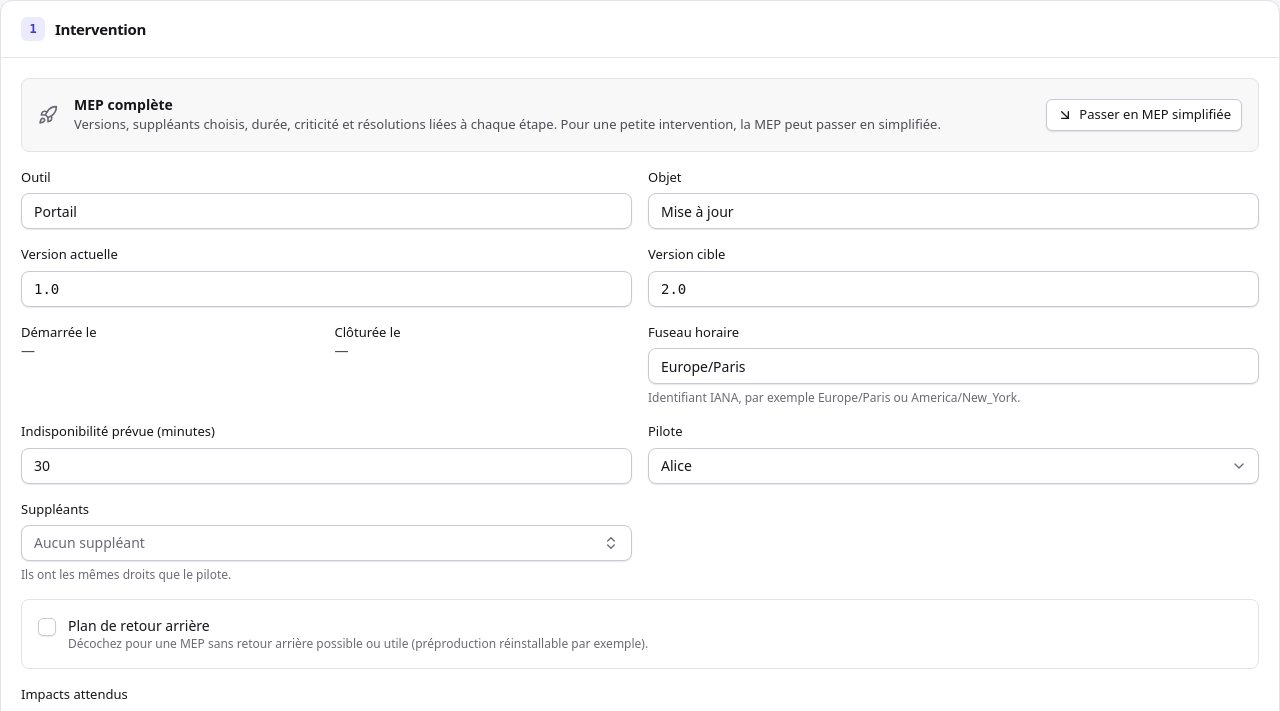
IdentiteSection : plan de retour arrière › se réactive sans confirmation
Click the checkbox named "Plan de retour arrière": (47, 627) [38,618,56,636]
(page scrolled)
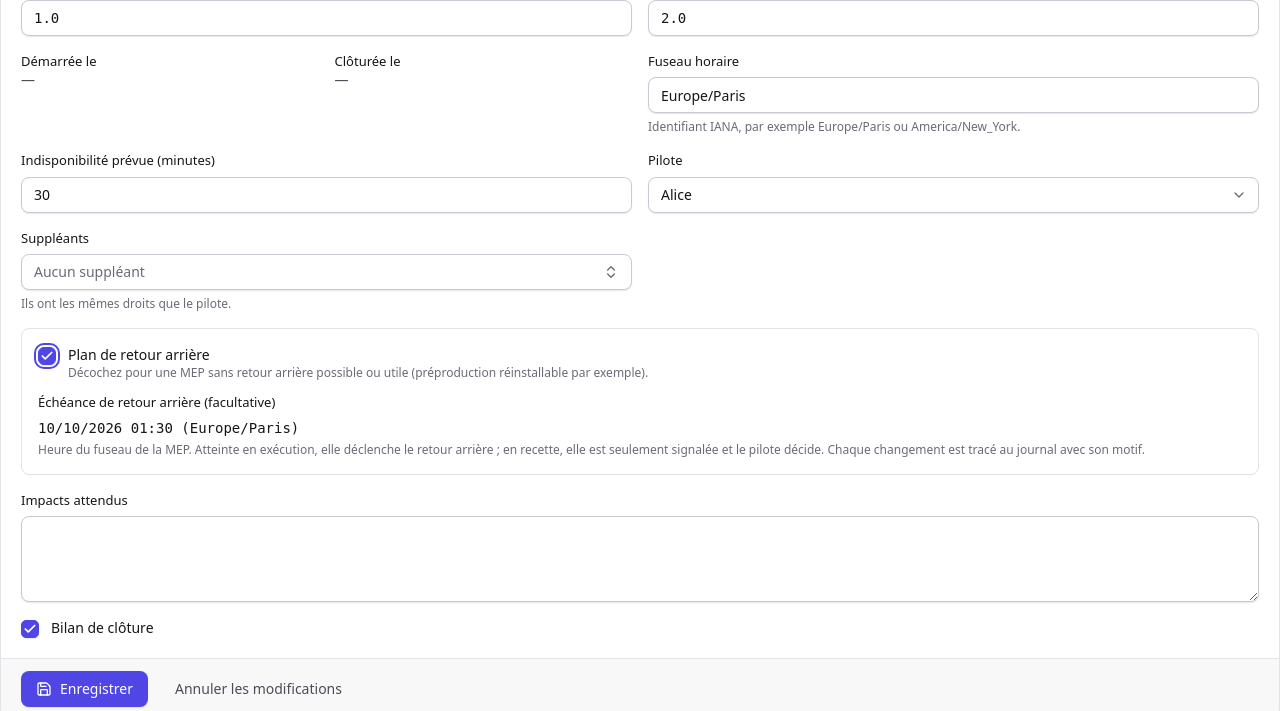
Now the checkbox named "Plan de retour arrière" next to "Plan de retour arrière" is checked, box [38,347,56,365]
Now the element labelled "Échéance de retour arrière" is shown, box [38,393,1242,458]
